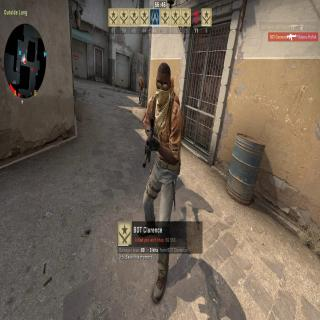T-Body: (136, 63, 185, 301), (139, 74, 144, 106)
T-Head: (156, 63, 173, 105), (171, 74, 174, 95), (140, 75, 142, 81)
